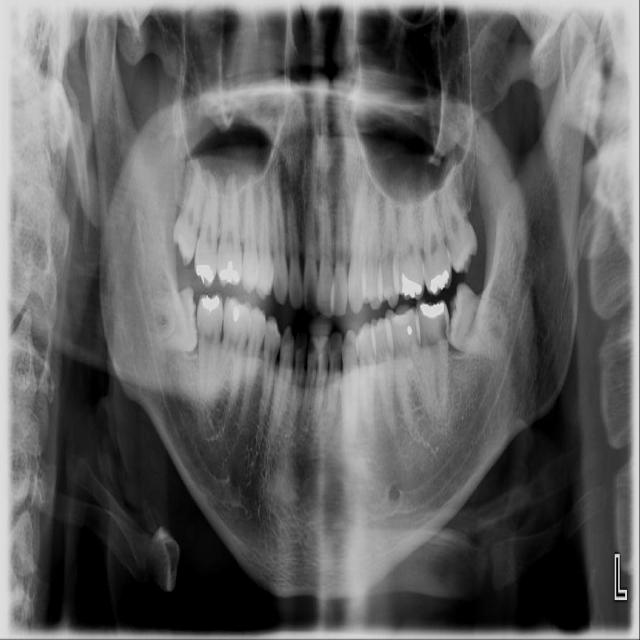Filling: (401, 271, 422, 299), (219, 259, 239, 283), (430, 270, 449, 294), (420, 301, 445, 318), (200, 294, 220, 313), (196, 264, 214, 284), (233, 306, 240, 323), (407, 325, 412, 336)
impacted tooth: (452, 280, 510, 361), (141, 288, 201, 350)
